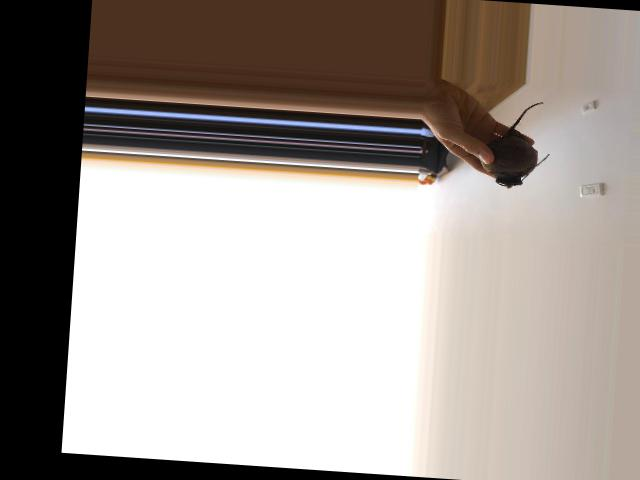beet: (478, 98, 553, 190)
